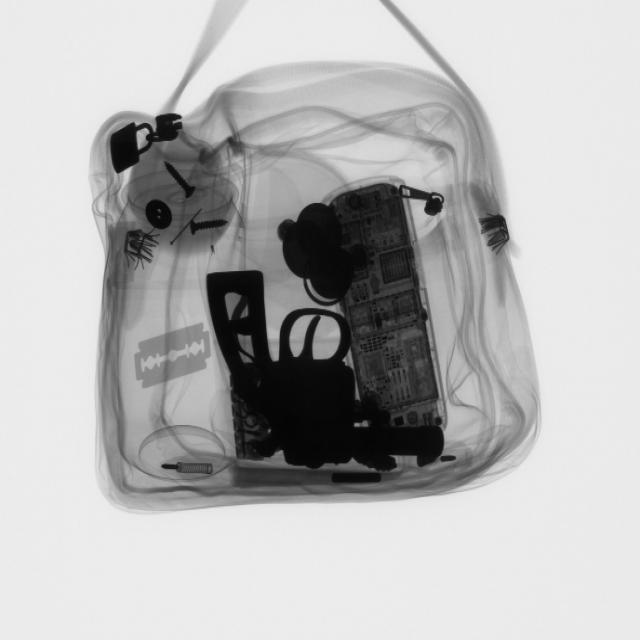BLADE: (130, 318, 216, 393)
GUN: (217, 259, 446, 470)
SCREW: (162, 158, 202, 202), (185, 211, 234, 240)
